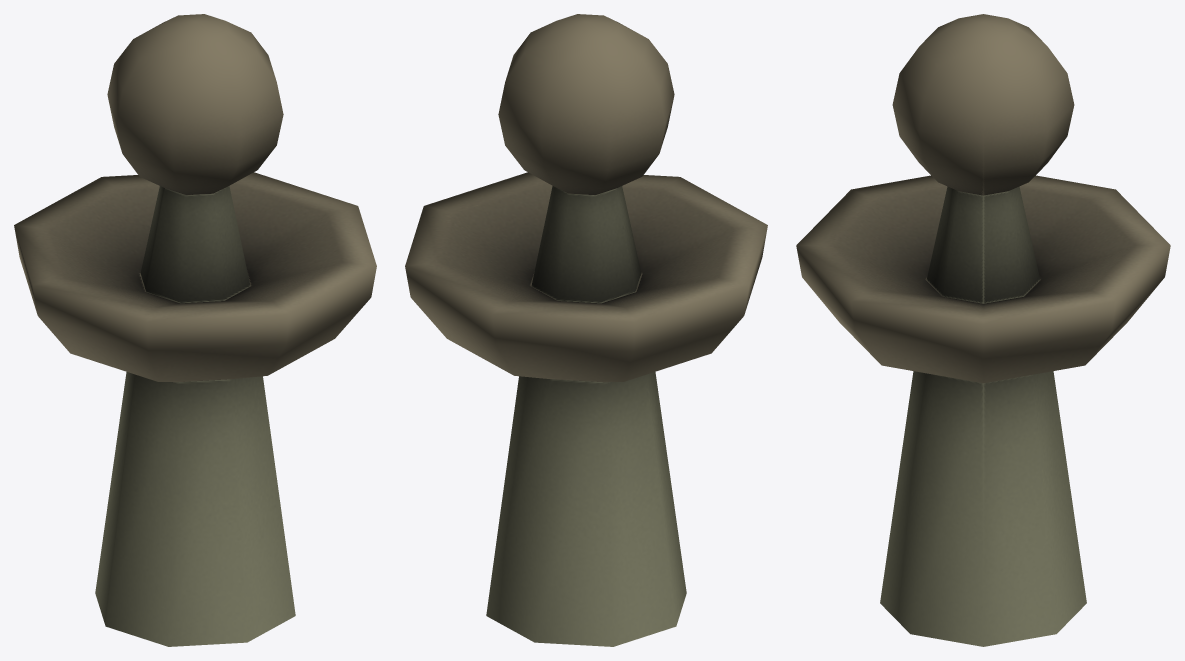
The model's file is decoTesla.fbx.
3 views of the same model, side by side, from view 1: azimuth 30°, elevation 25°; view 2: azimuth 150°, elevation 25°; view 3: azimuth 270°, elevation 25° (orthographic).
Visible parts, largest first — view 1: decoTesla; view 2: decoTesla; view 3: decoTesla.
Part boxes in pixels (x1,y1,x2,y2): decoTesla: (14,14,376,646); decoTesla: (405,14,767,646); decoTesla: (796,14,1170,646).
Bounding box in the file's own units: 0.8721 × 1.49 × 0.8721.
